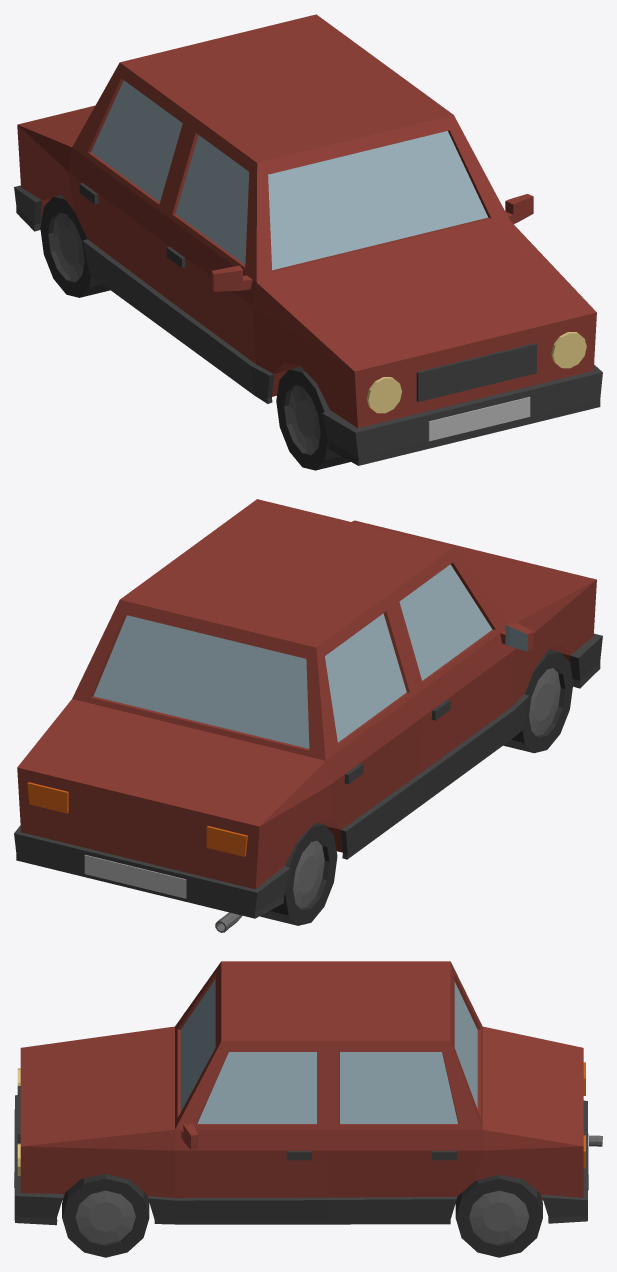
File: car-1.fbx
3 views of the same model, one above another, from view 1: azimuth 30°, elevation 25°; view 2: azimuth 150°, elevation 25°; view 3: azimuth 270°, elevation 25° (orthographic). The views are drawn at different scales.
Visible parts, largest first — view 1: Car1, Car1Wheel-FR, Car1Wheel-RR; view 2: Car1, Car1Wheel-RR, Car1Wheel-FR; view 3: Car1, Car1Wheel-FL, Car1Wheel-RL.
Part boxes in pixels (<box>): Car1: <box>14,14,602,465</box>; Car1Wheel-FR: <box>276,366,350,470</box>; Car1Wheel-RR: <box>40,194,109,297</box>; Car1: <box>14,499,602,932</box>; Car1Wheel-RR: <box>260,822,337,925</box>; Car1Wheel-FR: <box>503,649,573,753</box>; Car1: <box>14,961,602,1225</box>; Car1Wheel-FL: <box>62,1173,149,1257</box>; Car1Wheel-RL: <box>455,1175,542,1257</box>.
Bounding box in the file's own units: 196 × 145 × 375.
